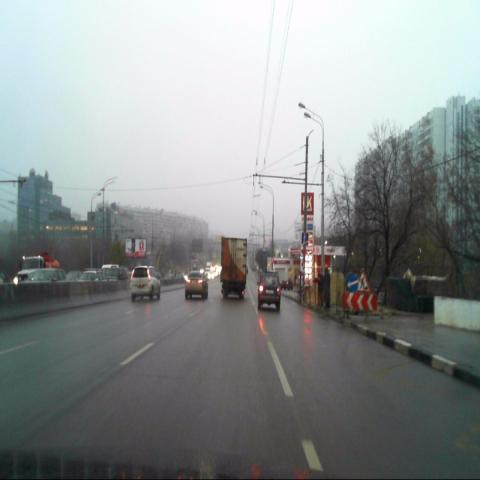1_25: (358, 267, 372, 293)
4_1_2_2: (346, 271, 358, 293)
